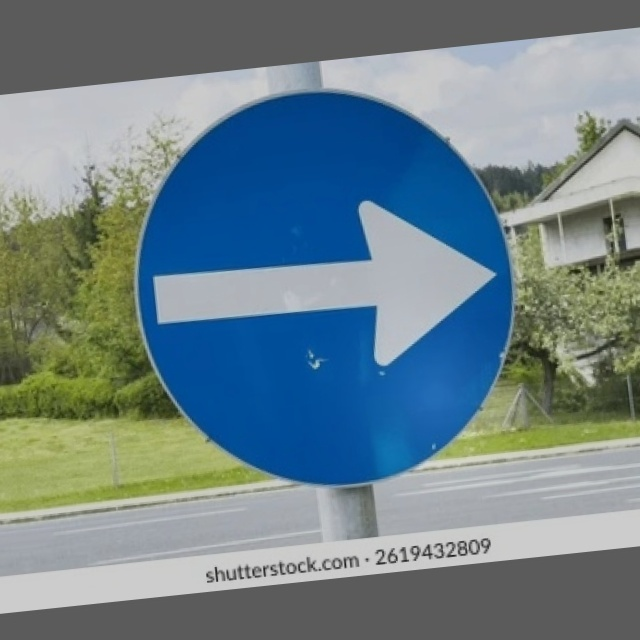Compulsory_Turn_Right: (114, 69, 533, 508)
